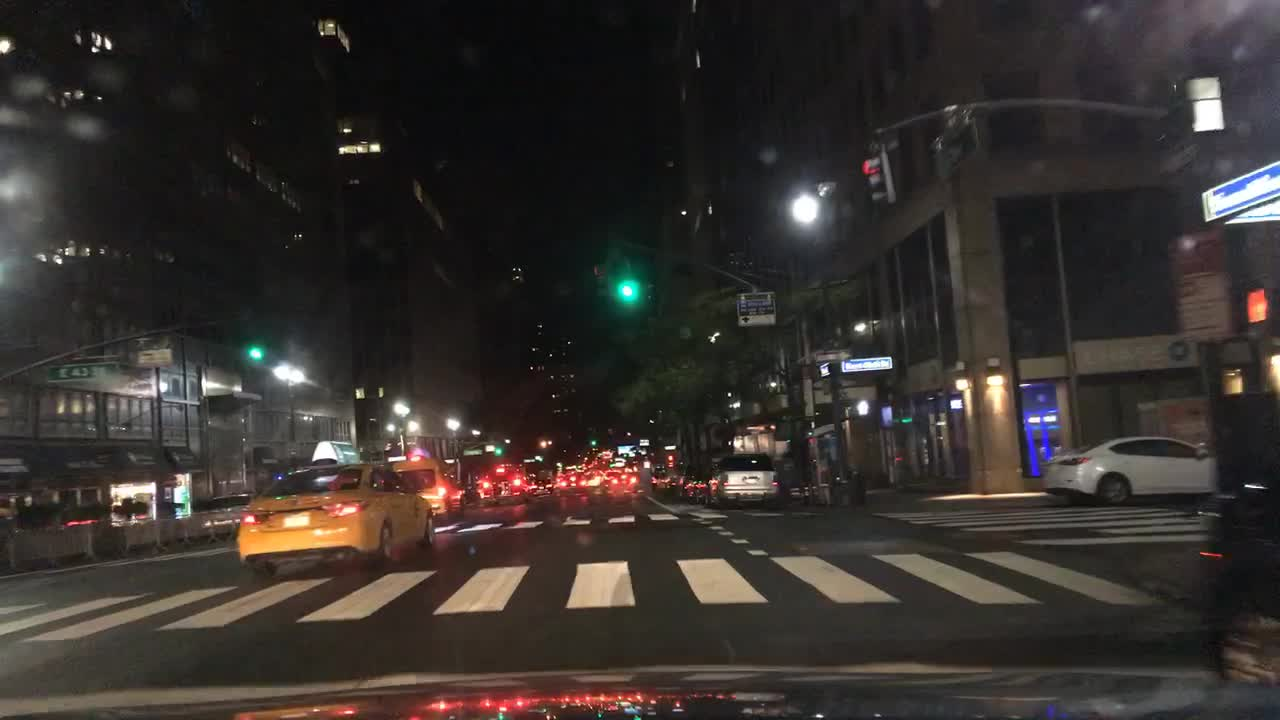car: (236, 439, 436, 574), (1197, 477, 1278, 684), (1041, 425, 1216, 507), (390, 459, 467, 522), (708, 451, 783, 508), (6, 499, 110, 537), (476, 464, 528, 499), (198, 491, 250, 516), (683, 459, 711, 505), (602, 470, 639, 497), (671, 461, 694, 493), (656, 465, 677, 490), (530, 474, 553, 496), (580, 468, 602, 487), (557, 471, 576, 488), (648, 465, 659, 488), (493, 442, 501, 456)
traffic light: (859, 148, 902, 205), (1240, 286, 1273, 338), (591, 260, 610, 298), (619, 266, 637, 304), (791, 419, 815, 442), (769, 421, 791, 439), (247, 344, 260, 360)
traffic sign: (1163, 225, 1229, 338), (922, 115, 980, 176), (45, 361, 120, 381), (732, 291, 775, 324), (131, 345, 172, 366), (806, 347, 855, 363), (33, 604, 56, 609)
